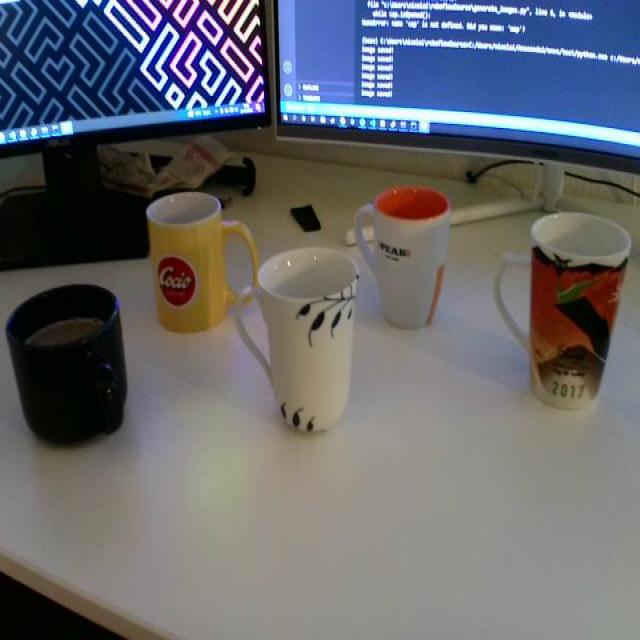cup: (484, 202, 636, 428), (220, 235, 368, 463), (2, 262, 132, 465), (139, 170, 251, 347), (352, 170, 456, 332)
